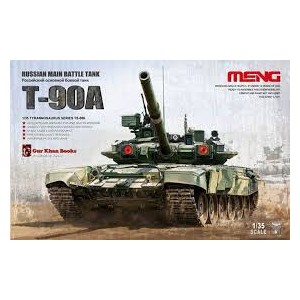Battle Tank: (46, 122, 257, 228)
